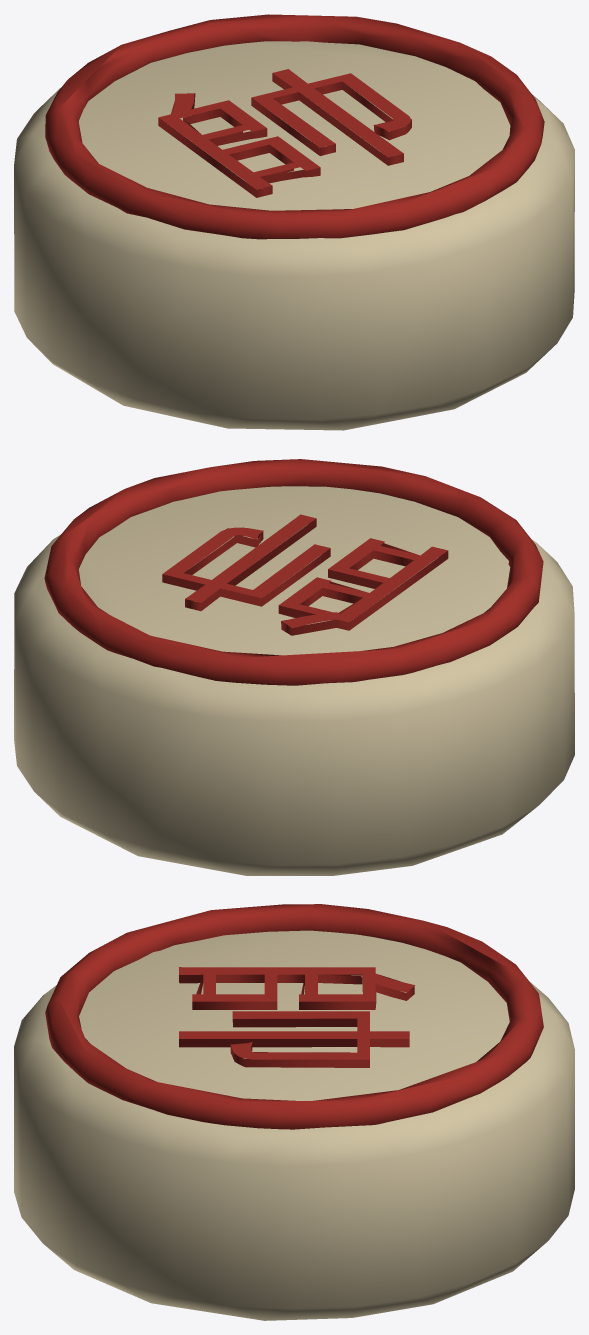
Rendered from quan_do_tuong.glb.
The picture shows the model from 3 angles, top to bottom: view 1: azimuth 30°, elevation 25°; view 2: azimuth 150°, elevation 25°; view 3: azimuth 270°, elevation 25°; orthographic projection.
Parts seen in each view (by area): view 1: quan_do_tuong; view 2: quan_do_tuong; view 3: quan_do_tuong.
Part boxes in pixels (box(x1,y1,x2,y2)): quan_do_tuong: box(14, 14, 574, 430); quan_do_tuong: box(14, 459, 574, 875); quan_do_tuong: box(14, 904, 574, 1320).
Size of the model in its own units: 0.0367 by 0.0153 by 0.0366.
